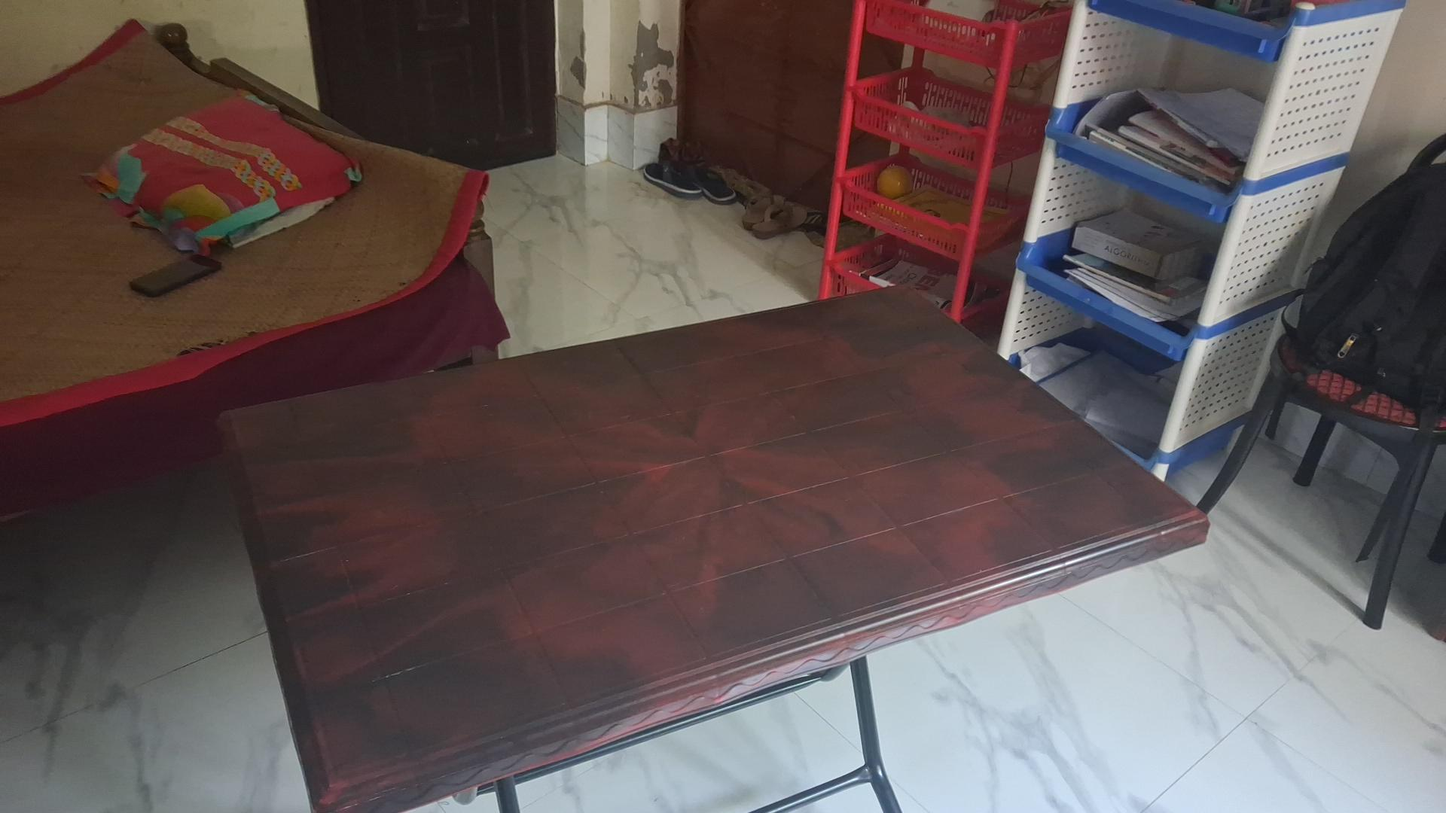Book: (1070, 207, 1206, 281)
Chair: (1196, 325, 1445, 631)
Footwear: (641, 158, 735, 202), (742, 186, 808, 240)
Phone: (125, 255, 225, 297)
Pillow: (90, 90, 358, 250)
Rack: (989, 0, 1402, 501), (817, 1, 1071, 322)
Table: (221, 283, 1203, 813)
